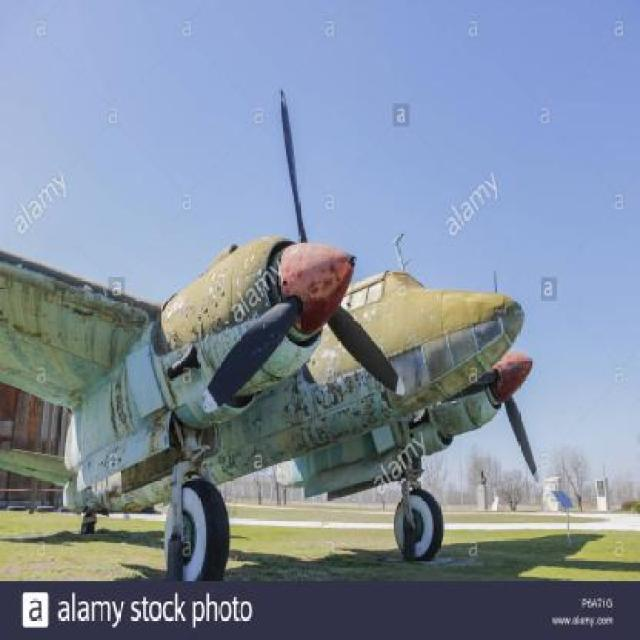corrosion: (4, 218, 536, 504)
